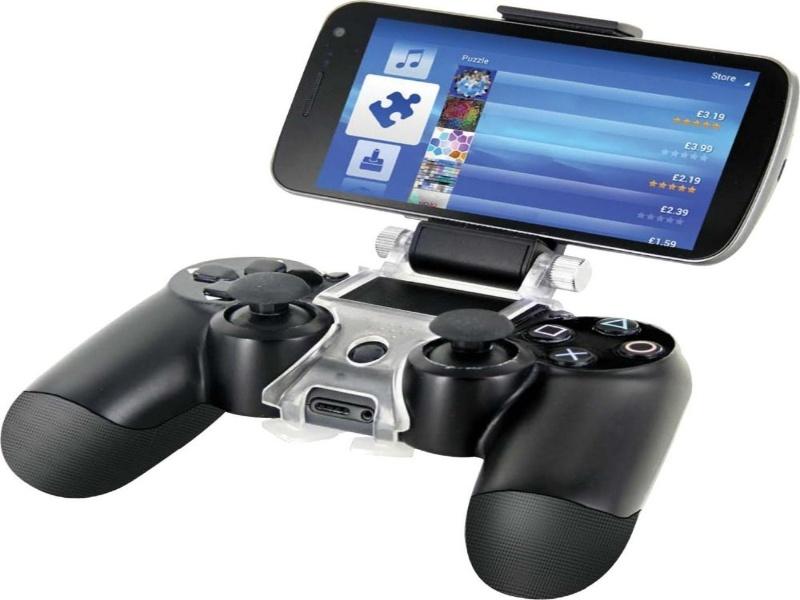ps4 joystick: (1, 249, 701, 599)
